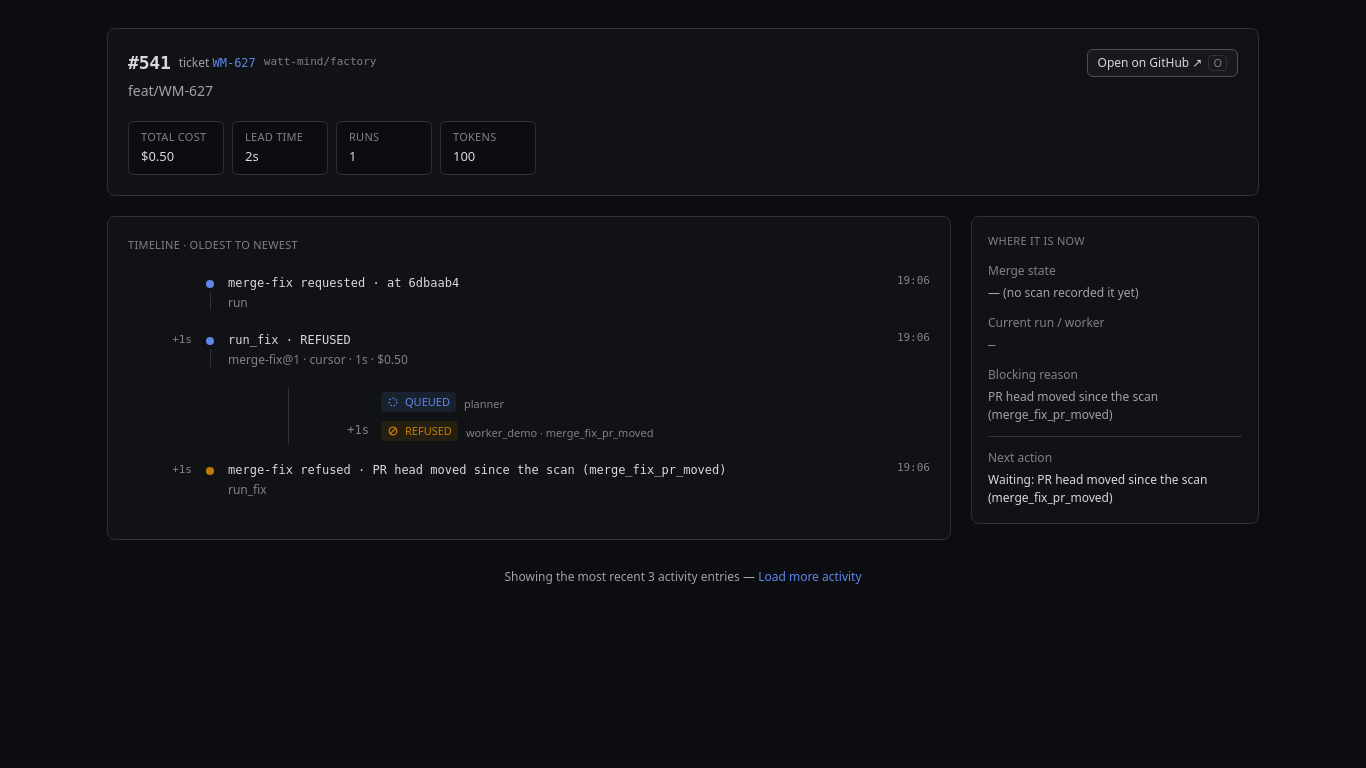
Test case: PR journey view › bounds every PR-journey feed and loads an older page without duplicate timeline activity
Expected: the list item "merge-fix requested · at 6dbaab4 run 19:06" is shown, x1=128 y1=274 x2=930 y2=331
Click the button "Load more activity" at (810, 577), box x1=758 y1=568 x2=862 y2=586
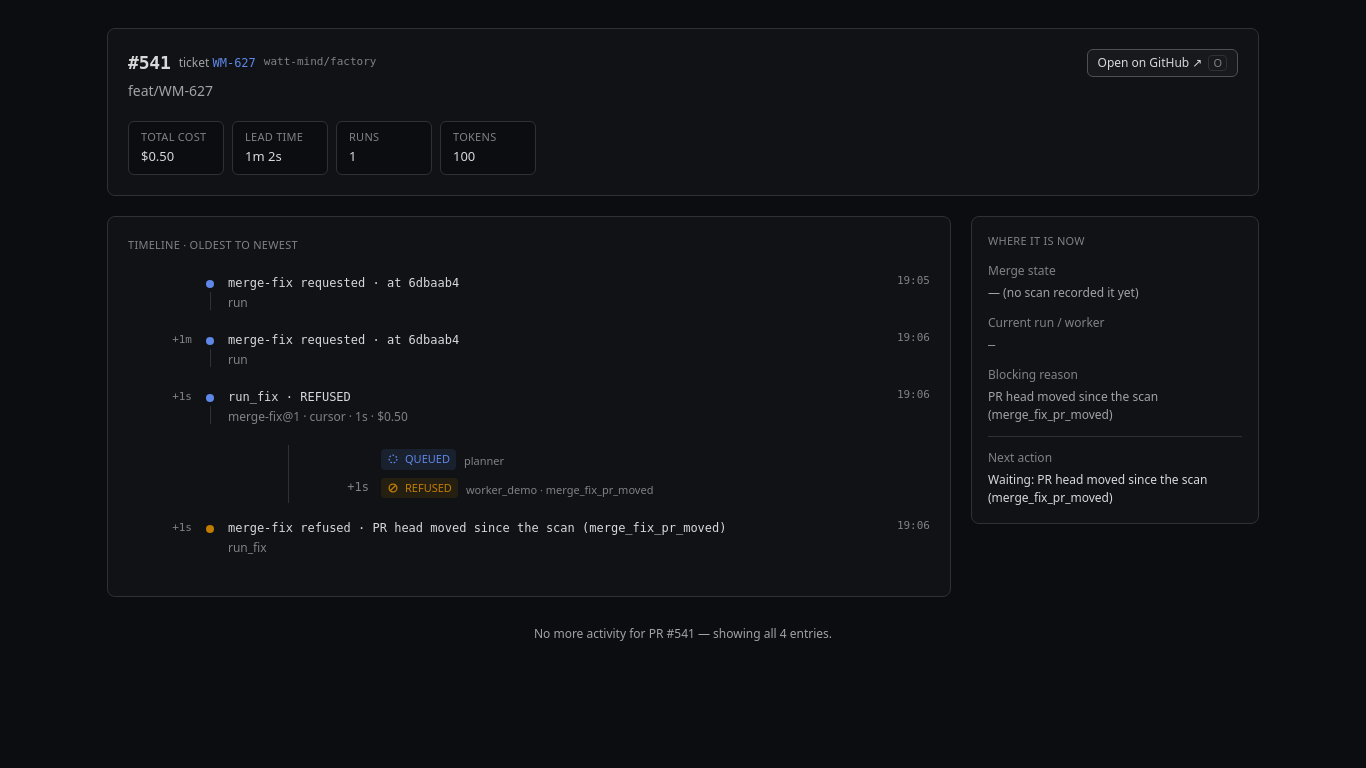
Now the button "Load more activity" is gone
